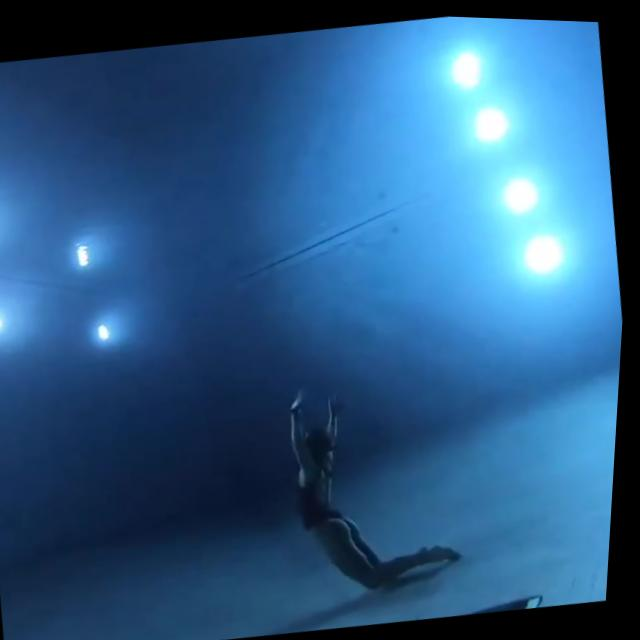human: (246, 350, 491, 609)
